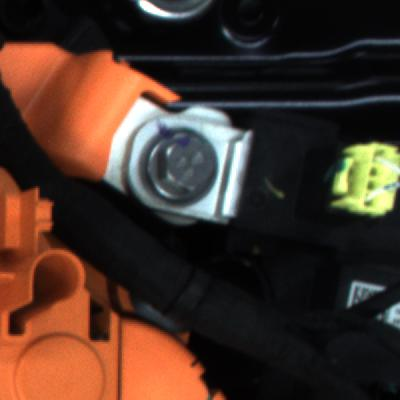nut_b: (124, 113, 234, 216)
